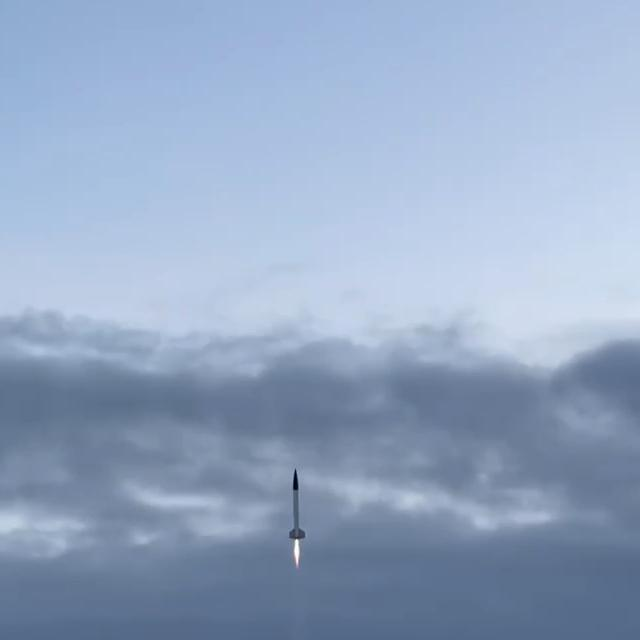rocket: (288, 469, 305, 564)
